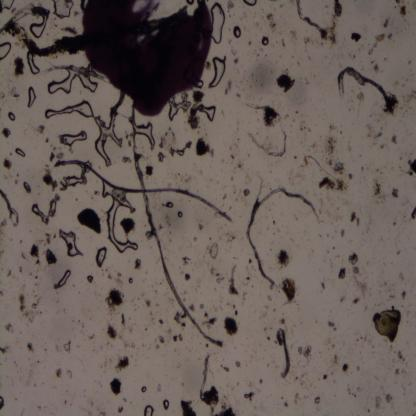Air bubble: (98, 186, 138, 254), (94, 114, 123, 166), (46, 71, 97, 97), (44, 99, 94, 120), (59, 226, 84, 257), (210, 1, 225, 45), (135, 124, 156, 152), (209, 56, 226, 90), (168, 98, 190, 123), (30, 14, 50, 38), (61, 130, 88, 146), (52, 0, 74, 19), (62, 173, 86, 189), (32, 204, 50, 224), (199, 103, 217, 123), (54, 269, 70, 291), (26, 53, 41, 76), (26, 85, 37, 108), (96, 247, 107, 269), (0, 41, 12, 60), (0, 0, 16, 12), (232, 25, 242, 40), (260, 34, 270, 46), (15, 148, 27, 158), (142, 405, 154, 415), (242, 0, 258, 7), (6, 112, 16, 122), (162, 399, 170, 410), (176, 208, 184, 218), (197, 80, 205, 89), (166, 201, 174, 209), (127, 276, 134, 284), (141, 386, 148, 393)
Background material: (0, 18, 83, 58), (0, 0, 36, 47), (372, 307, 402, 344), (158, 126, 194, 156), (315, 161, 346, 192), (17, 292, 45, 324), (314, 194, 342, 222), (188, 89, 206, 131), (326, 1, 343, 43), (77, 208, 102, 236), (367, 32, 394, 56), (273, 66, 296, 94), (193, 135, 216, 160), (104, 284, 125, 311), (279, 328, 290, 377), (368, 177, 387, 205), (227, 260, 241, 298), (350, 276, 372, 300), (275, 244, 292, 272), (201, 385, 221, 408), (324, 135, 338, 167), (340, 379, 361, 400), (281, 277, 297, 304), (222, 312, 239, 337), (393, 348, 407, 378), (362, 122, 384, 141), (378, 278, 396, 301), (399, 93, 416, 117), (347, 250, 362, 276), (178, 396, 197, 416), (113, 352, 131, 373), (201, 309, 217, 332), (42, 171, 58, 193), (120, 216, 136, 237), (46, 194, 61, 216), (386, 93, 400, 116), (303, 145, 317, 168), (373, 394, 394, 409), (223, 225, 237, 247), (296, 343, 314, 360), (12, 53, 24, 78), (173, 310, 188, 330), (208, 266, 224, 284), (108, 376, 122, 396), (322, 121, 343, 134), (394, 0, 408, 19), (299, 113, 311, 135), (209, 238, 220, 261), (30, 243, 42, 264), (45, 247, 58, 266), (300, 36, 322, 47), (347, 210, 362, 226), (265, 14, 276, 35), (348, 28, 362, 44), (0, 155, 13, 172), (60, 23, 80, 34), (406, 157, 416, 178), (43, 136, 58, 150), (220, 404, 237, 416), (106, 324, 118, 341), (11, 84, 21, 104), (326, 318, 337, 335), (279, 396, 290, 413), (230, 46, 240, 64), (223, 78, 233, 96), (48, 151, 66, 161), (369, 56, 379, 74), (21, 179, 32, 195), (108, 270, 121, 283), (397, 268, 406, 286), (277, 315, 290, 327), (4, 320, 15, 334), (155, 334, 166, 348), (62, 368, 73, 382), (390, 186, 401, 200), (62, 339, 72, 354), (294, 388, 302, 406), (242, 391, 255, 402), (338, 266, 348, 280), (330, 353, 340, 367), (156, 150, 166, 164), (352, 361, 362, 375), (144, 295, 154, 308), (133, 257, 143, 270), (340, 361, 350, 374), (351, 294, 361, 307), (127, 130, 135, 146), (0, 345, 11, 356), (2, 127, 12, 139), (172, 333, 184, 343), (390, 132, 399, 145), (44, 232, 52, 246), (156, 312, 164, 326), (290, 29, 298, 43), (144, 164, 154, 175), (356, 91, 366, 102), (381, 18, 390, 30), (339, 292, 348, 304), (182, 254, 191, 266), (27, 341, 36, 353), (183, 270, 191, 283), (400, 292, 410, 302), (348, 51, 358, 61), (37, 125, 45, 137), (410, 206, 416, 222), (96, 408, 108, 416), (256, 373, 263, 386), (0, 392, 5, 410), (222, 364, 231, 374), (246, 255, 254, 266), (198, 219, 206, 230), (339, 228, 346, 240), (6, 267, 13, 279), (236, 162, 245, 171), (321, 372, 329, 382), (243, 187, 250, 198), (155, 383, 162, 394), (314, 395, 321, 406), (188, 300, 195, 311), (121, 312, 126, 327), (241, 290, 246, 305), (374, 166, 382, 175), (92, 187, 100, 196), (328, 258, 334, 270), (198, 298, 204, 310), (87, 274, 94, 284), (235, 360, 242, 370), (56, 368, 62, 379), (227, 152, 235, 160), (204, 62, 212, 70), (227, 1, 234, 10), (303, 77, 310, 86), (115, 405, 124, 412), (362, 302, 368, 312), (292, 374, 300, 381), (364, 334, 370, 343), (234, 93, 242, 99), (330, 342, 336, 350), (18, 265, 24, 273), (88, 334, 96, 340), (192, 235, 198, 243), (149, 232, 155, 240), (348, 171, 353, 180), (322, 281, 326, 292), (380, 142, 386, 149), (266, 294, 272, 301), (79, 323, 85, 330), (62, 398, 68, 405), (0, 289, 5, 297), (266, 338, 272, 344), (273, 338, 279, 344), (247, 41, 253, 47), (393, 219, 397, 227), (281, 40, 285, 48), (0, 93, 5, 99), (263, 326, 268, 332), (395, 250, 401, 255), (325, 233, 331, 238), (360, 165, 364, 172), (399, 155, 403, 162), (21, 254, 25, 260), (318, 232, 322, 238), (332, 246, 336, 251), (235, 310, 238, 316), (272, 308, 276, 312), (295, 110, 298, 115), (327, 249, 330, 254), (297, 61, 300, 66), (232, 304, 235, 309)
Cellulose filter fibre: (132, 154, 225, 347), (246, 176, 318, 286), (243, 100, 287, 157), (336, 65, 389, 109), (42, 64, 107, 84), (295, 1, 325, 35), (0, 186, 19, 229), (199, 356, 210, 401)
Microfibre: (54, 158, 234, 224)
Pen: (80, 0, 212, 117)
